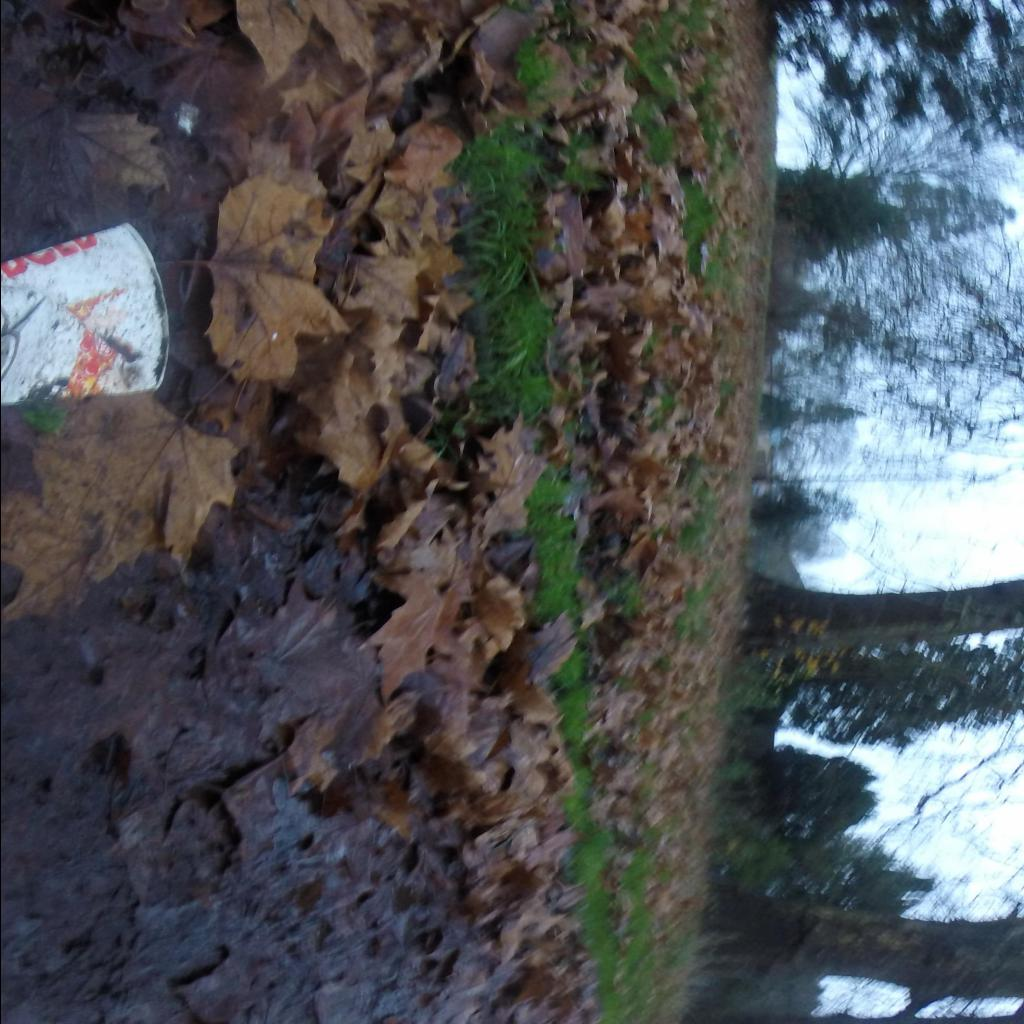Paper cup: (0, 223, 168, 405)
